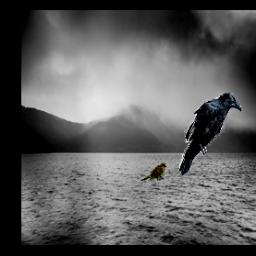Crow: (178, 93, 241, 176)
Cuckoo: (140, 162, 167, 181)
